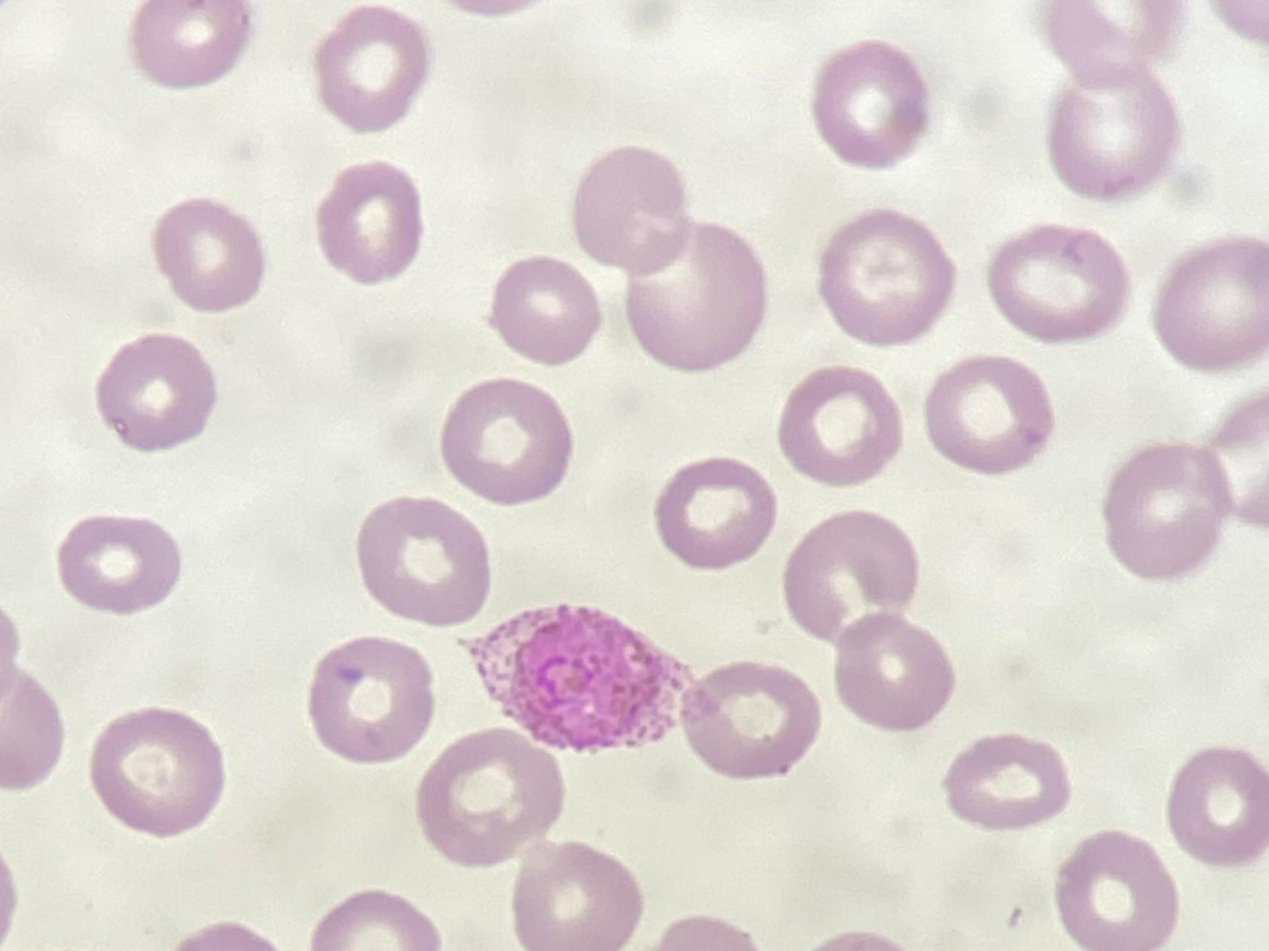Infected: (463, 604, 705, 758)
Uninfected: (624, 223, 762, 368), (416, 731, 560, 867), (819, 211, 952, 342), (356, 496, 491, 625), (789, 514, 915, 650), (90, 710, 223, 837), (441, 379, 571, 505), (1104, 445, 1228, 576), (1048, 73, 1177, 198), (684, 661, 820, 779), (308, 638, 435, 763), (989, 224, 1124, 341), (1156, 235, 1269, 367), (572, 145, 691, 270), (777, 368, 902, 485), (926, 355, 1052, 471), (1056, 833, 1177, 949), (96, 334, 215, 451), (814, 42, 927, 165), (315, 7, 428, 129), (512, 843, 638, 950), (317, 163, 425, 282), (657, 457, 773, 567), (152, 198, 264, 311), (58, 514, 178, 616), (945, 734, 1075, 828), (488, 254, 599, 364), (837, 613, 950, 721), (1166, 746, 1269, 862), (132, 2, 248, 87)
